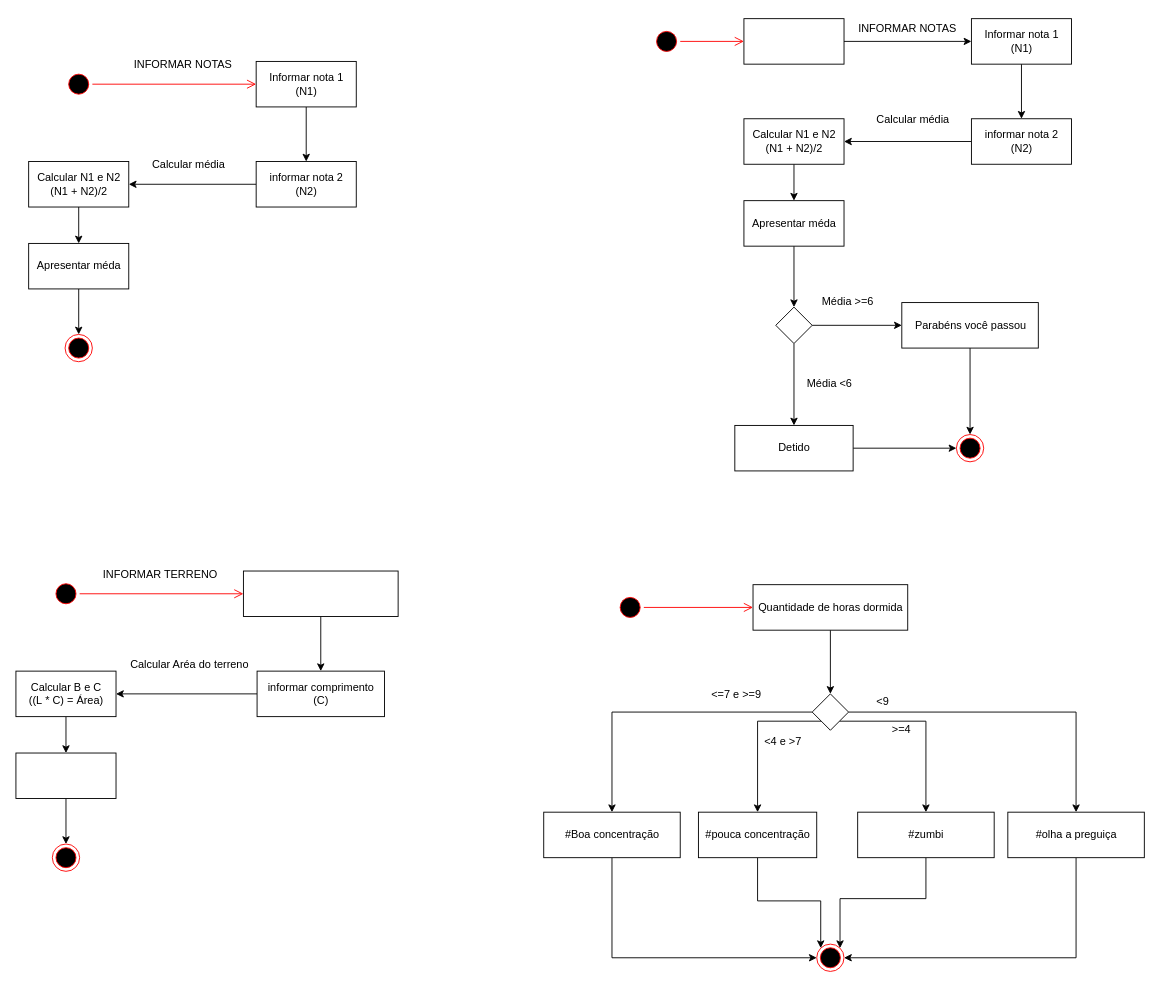
The diagram is 1160 pixels wide and 987 high, and some of its shapes have lost their labels. The box of each missing label's shape, as (x1, y1, x2, y2) in pixels:
Apresentar Área: (15, 752, 116, 799)
Informar Largura (L): (243, 570, 398, 617)
Usuario: (743, 18, 844, 64)
